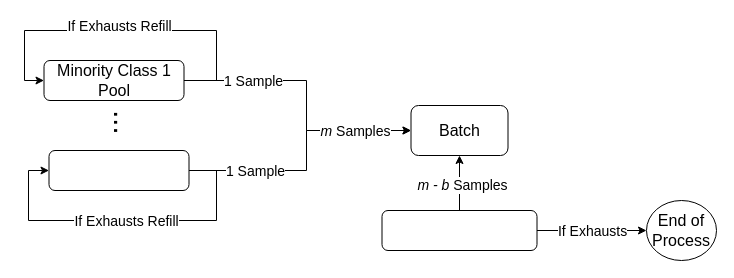
Some shapes in this 734 by 278 pixel diagram are drawn without their labels. Here are the shapes that lost their labels. From the top down, the centre of each, then its label:
At (x=118, y=170): "Minority Class m Pool".
At (x=459, y=230): "Other Pool".
